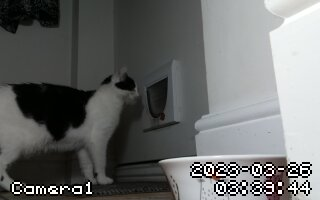bad: (4, 60, 139, 197)
